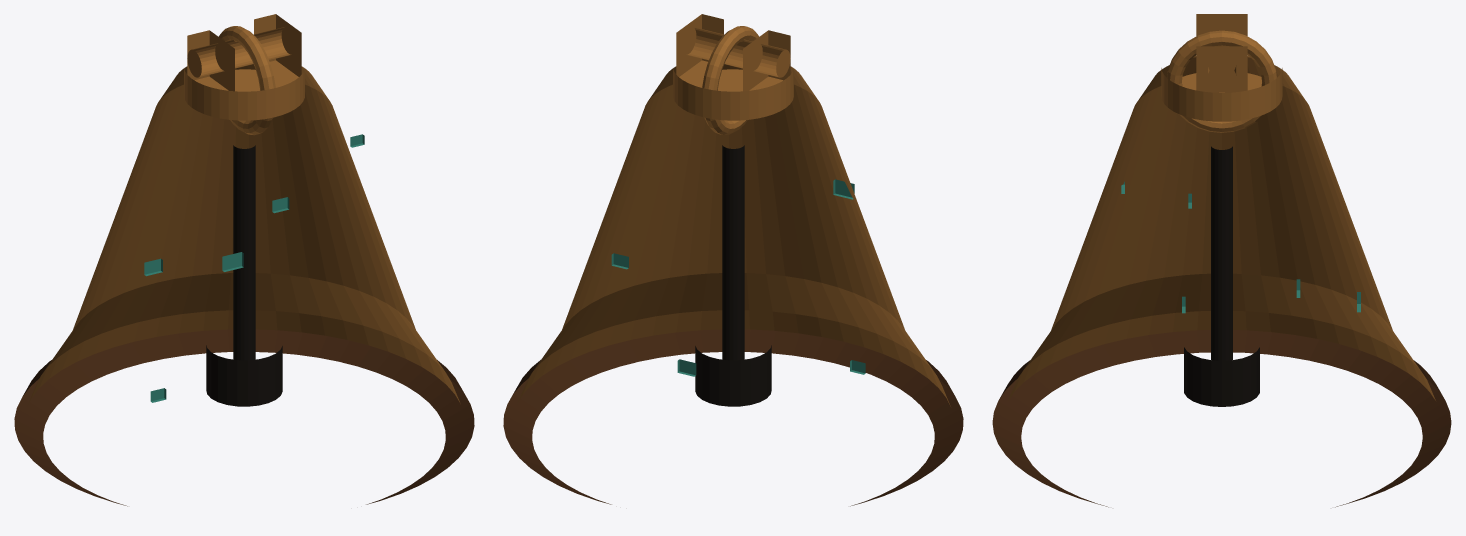
File: citadel-bell-v0.glb
3 renders of one model, left to right at view 1: azimuth 30°, elevation 25°; view 2: azimuth 150°, elevation 25°; view 3: azimuth 270°, elevation 25°, orthographic.
Visible parts, largest first — view 1: BellVisual; view 2: BellVisual; view 3: BellVisual.
Part boxes in pixels (left/top/right/bottom): BellVisual: left=14, top=14, right=474, bottom=506; BellVisual: left=503, top=14, right=963, bottom=506; BellVisual: left=992, top=14, right=1451, bottom=507.
Size of the model in its own units: 1.44 by 1.4 by 1.44.
